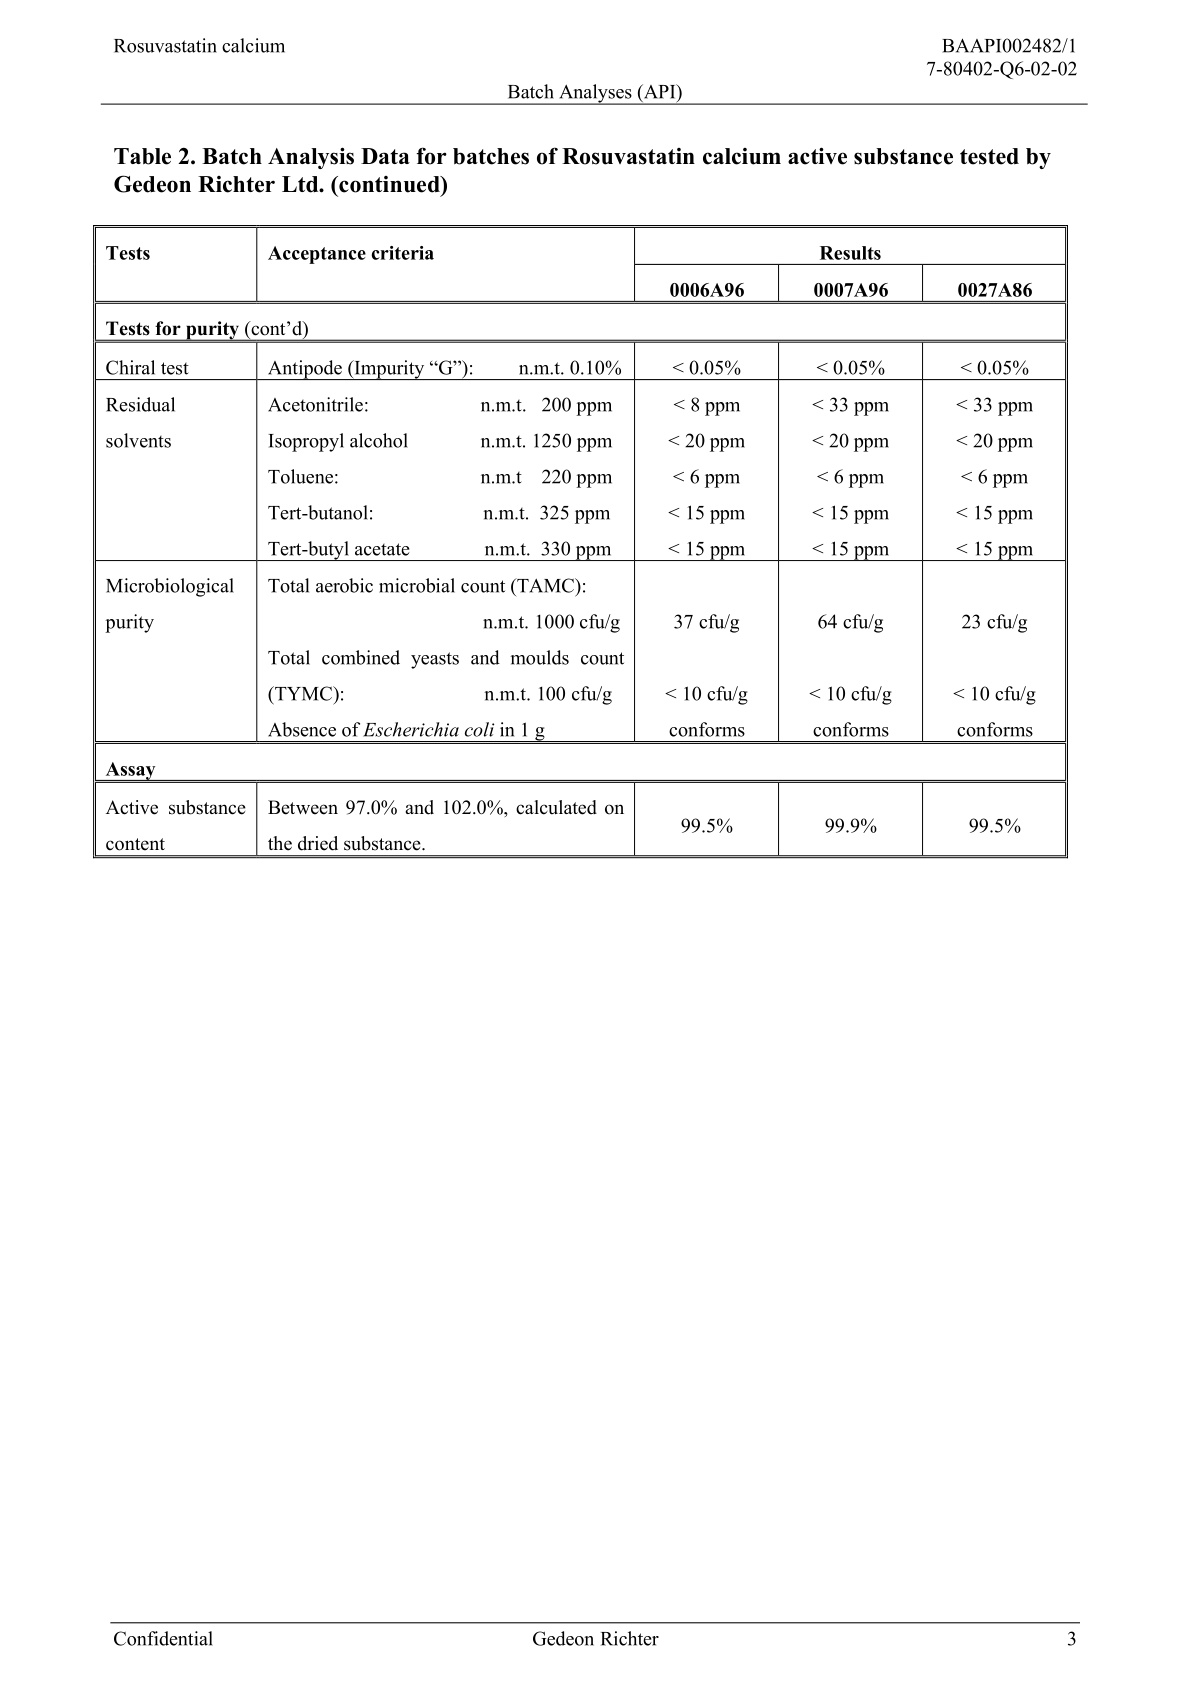merged_cells: (92, 225, 1069, 859)
